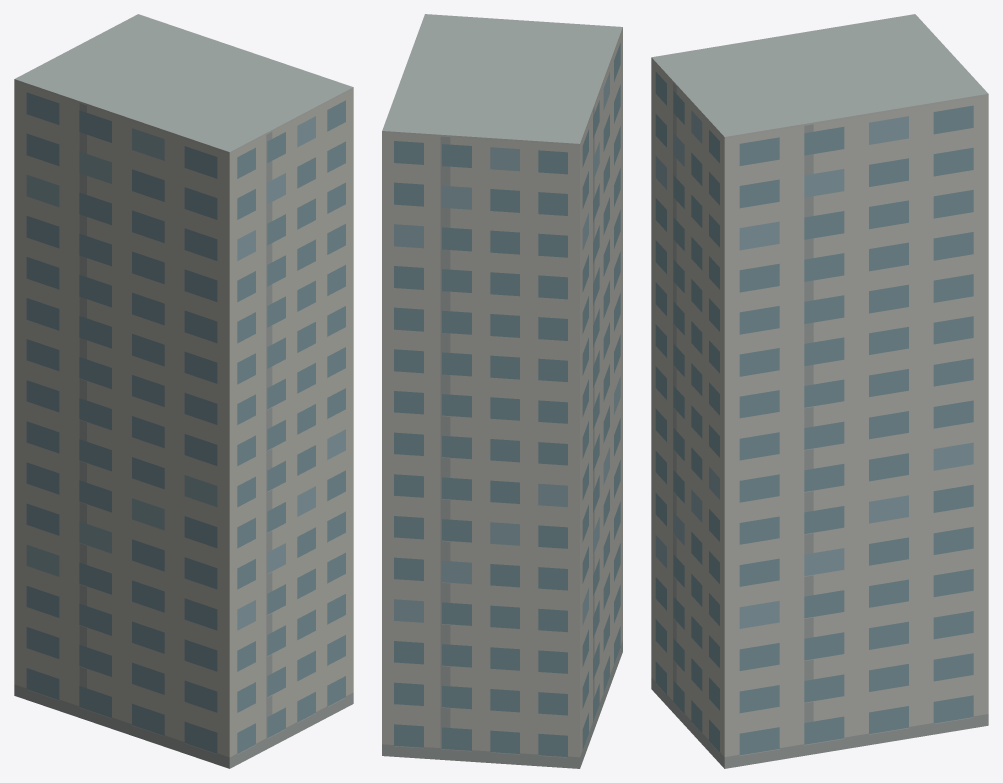
Rendered from residential-e8a54a8d-1938-4c0e-9de5-70ce132a96c2.glb.
The picture shows the model from 3 angles, left to right: view 1: azimuth 30°, elevation 25°; view 2: azimuth 150°, elevation 25°; view 3: azimuth 270°, elevation 25°; orthographic projection. The views are drawn at different scales.
Parts seen in each view (by area): view 1: residential-e8a54a8d-1938-4c0e-9de5-70ce132a96c2.tmp; view 2: residential-e8a54a8d-1938-4c0e-9de5-70ce132a96c2.tmp; view 3: residential-e8a54a8d-1938-4c0e-9de5-70ce132a96c2.tmp.
Part boxes in pixels (left/top/right/bottom): residential-e8a54a8d-1938-4c0e-9de5-70ce132a96c2.tmp: left=14, top=14, right=353, bottom=768; residential-e8a54a8d-1938-4c0e-9de5-70ce132a96c2.tmp: left=382, top=14, right=622, bottom=768; residential-e8a54a8d-1938-4c0e-9de5-70ce132a96c2.tmp: left=651, top=14, right=988, bottom=768.
Bounding box in the file's own units: 35.08 × 84 × 40.62.
